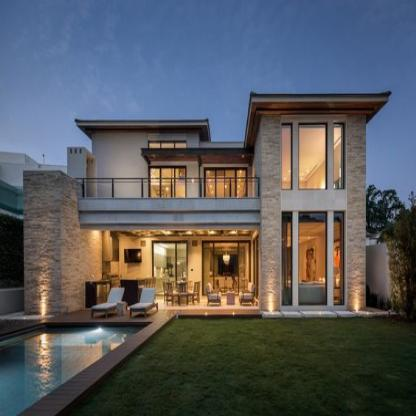Balcony: (74, 178, 260, 198)
Building Outline: (23, 89, 393, 316)
Door: (206, 170, 246, 213), (151, 168, 185, 211)
Facade: (23, 89, 393, 317)
Floor Slab: (74, 200, 366, 210)
Roof: (243, 90, 392, 148), (74, 117, 211, 142)
Window: (299, 214, 326, 306), (204, 243, 249, 295), (299, 125, 326, 189), (154, 243, 187, 295), (333, 214, 343, 306), (282, 214, 291, 306), (333, 125, 343, 189), (282, 125, 291, 189), (148, 143, 186, 152)
